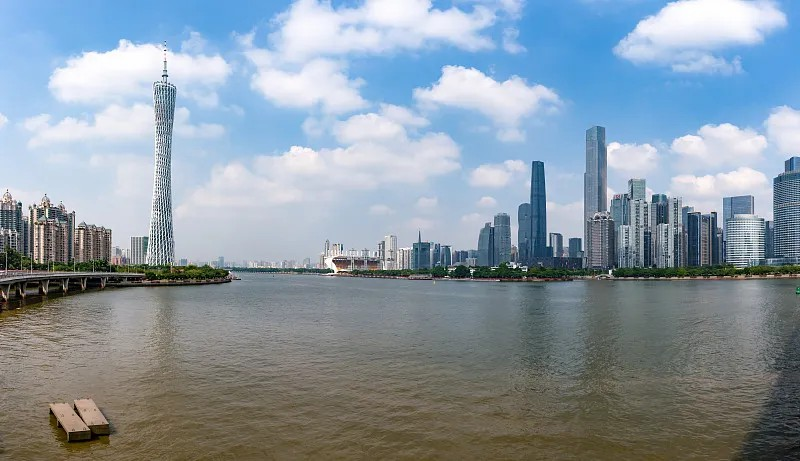Canton: (145, 42, 175, 266)
